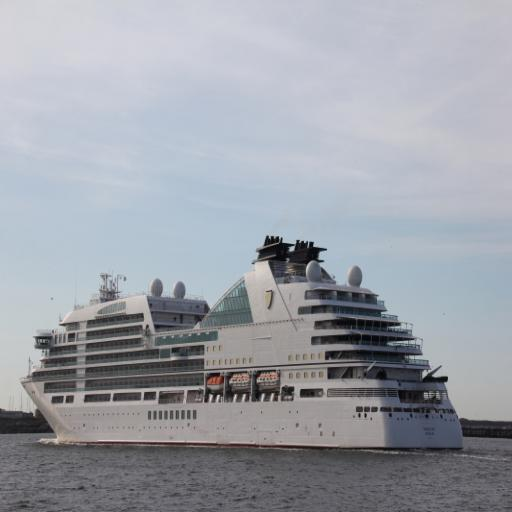cruises: (15, 234, 468, 456)
